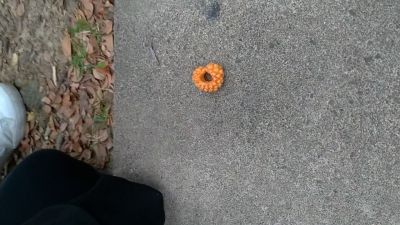eggs: (192, 63, 226, 92)
